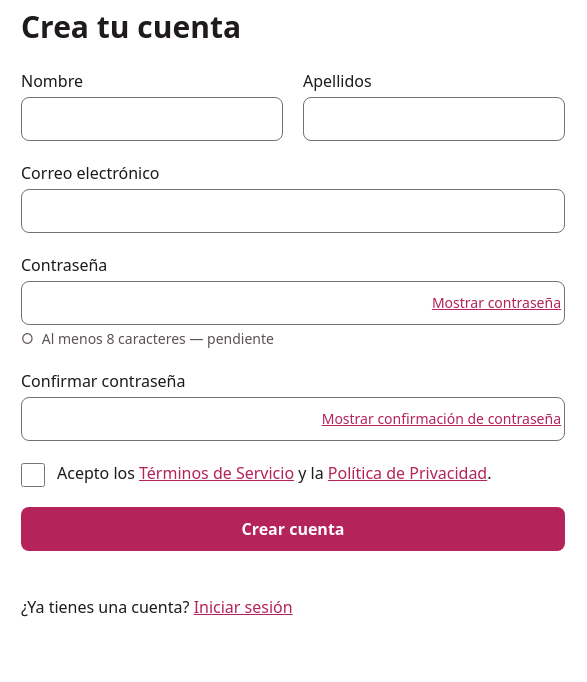
Test case: RegisterPage › errors returned by the API › places 400 details on their fields and focuses the first
Type "John" into the field labelled "Nombre".
click(152, 119); type("John")  # box [21, 97, 283, 141]
Type "Doe" into the field labelled "Apellidos".
click(434, 119); type("Doe")  # box [303, 97, 565, 141]
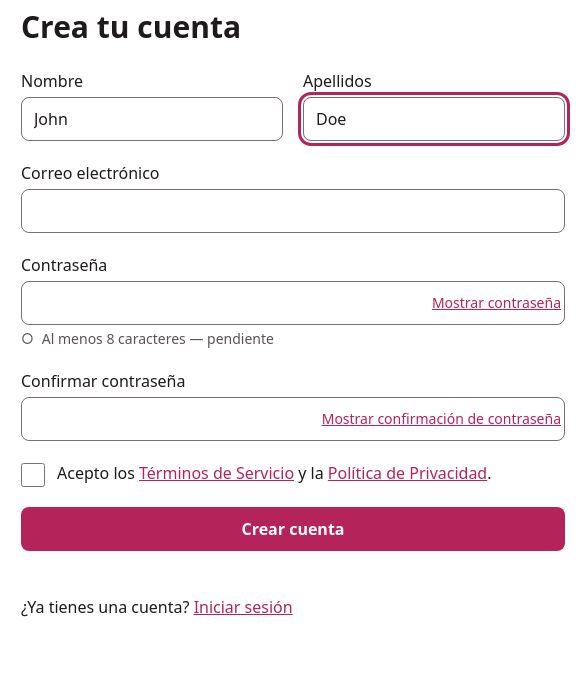
Type "john@example.com" into the field labelled "Correo electrónico".
click(293, 211); type("john@example.com")  # box [21, 189, 565, 233]
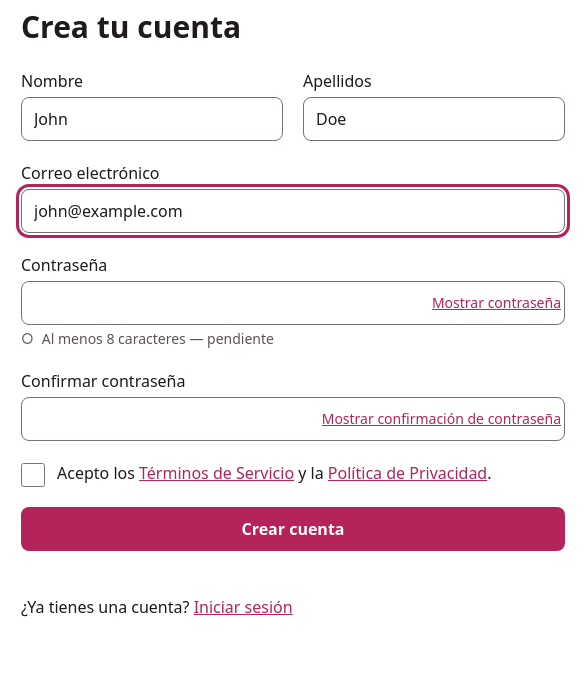
Type "my-secure-passphrase" into the password field labelled "Contraseña".
click(293, 303); type("my-secure-passphrase")  # box [21, 281, 565, 325]
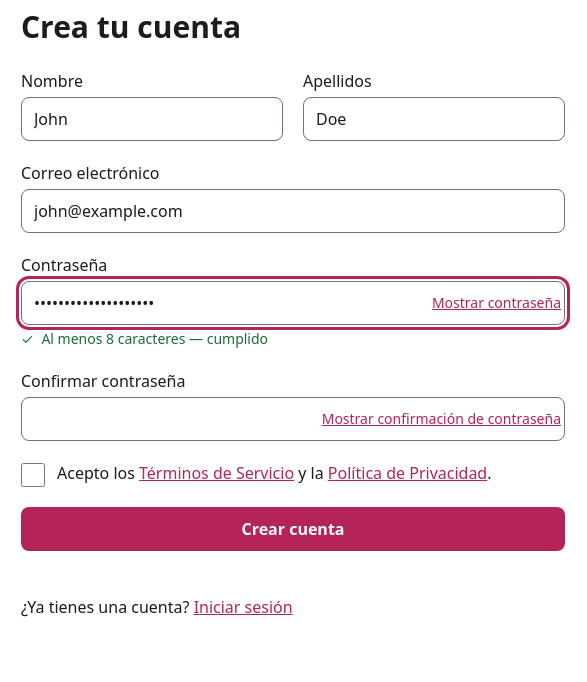
Type "my-secure-passphrase" into the password field labelled "Confirmar contraseña".
click(293, 419); type("my-secure-passphrase")  # box [21, 397, 565, 441]
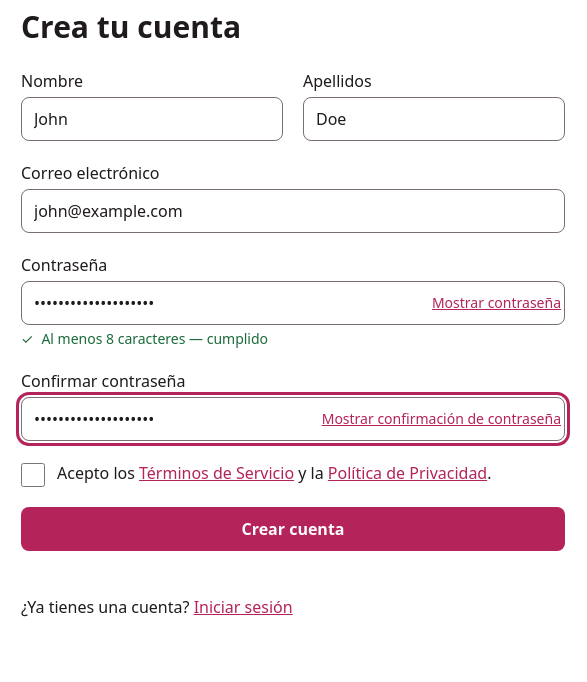
Click the checkbox labelled "Acepto los".
click(33, 475)  # box [21, 463, 45, 487]
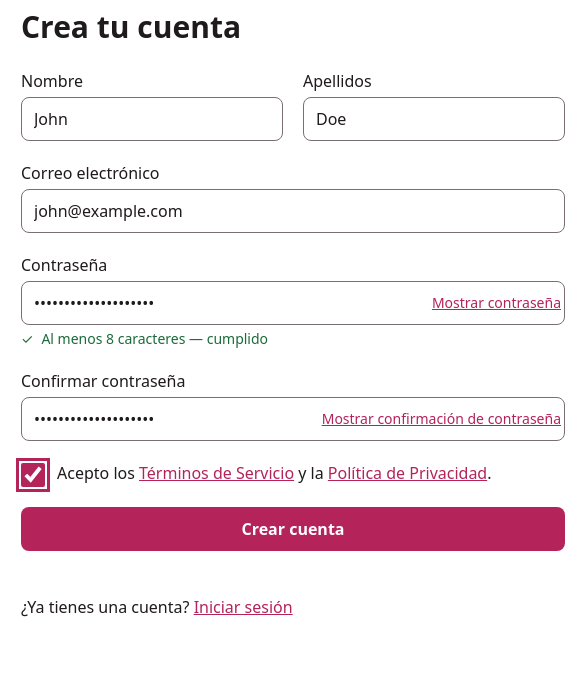
Click the button "Crear cuenta".
click(293, 529)  # box [21, 507, 565, 551]
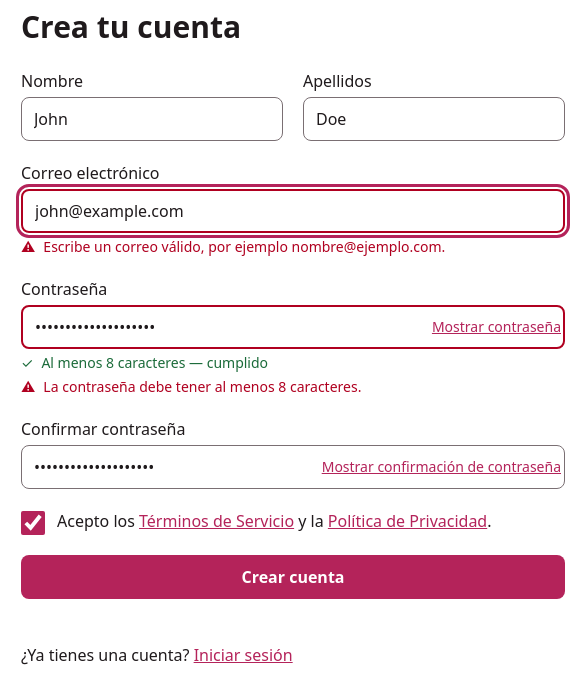
Now the text "Escribe un correo válido, por ejemplo nombre@ejemplo.com." is shown, box [43, 237, 445, 257]
